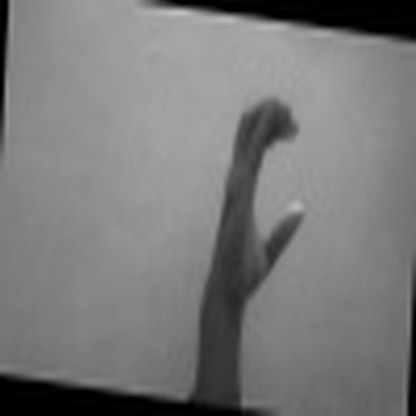c: (211, 89, 313, 287)
